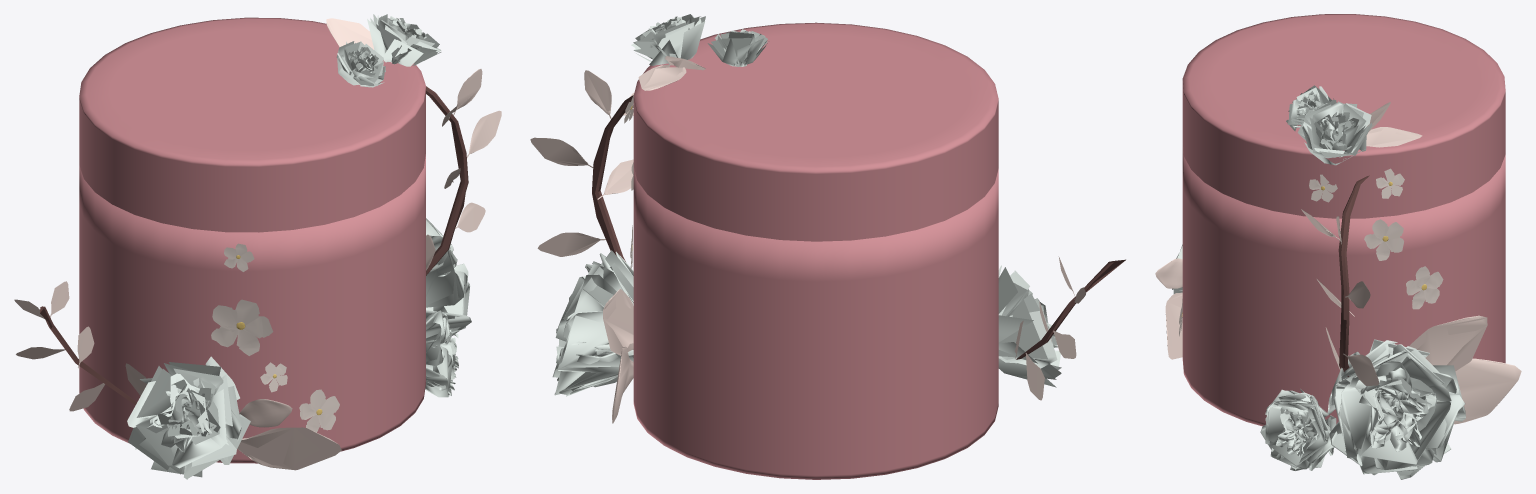
File: 1-tier-blush-roses-none.glb
The picture shows the model from 3 angles, left to right: view 1: azimuth 30°, elevation 25°; view 2: azimuth 150°, elevation 25°; view 3: azimuth 270°, elevation 25°; orthographic projection. The views are drawn at different scales.
Parts seen in each view (by area): view 1: Cylinder.019, grid.039, Plane.083, Plane.074, Plane.075, grid.038, grid.041, grid.033, Sphere.050, grid.035, Sphere.054, Plane.073 (+3 smaller); view 2: Cylinder.019, grid.038, Plane.083, grid.039, grid.041, Plane.075, Plane.079, grid.035, Plane.086, Plane.080; view 3: Cylinder.019, grid.038, grid.033, grid.041, Plane.083, Plane.080, Plane.079, Sphere.057, Sphere.059, Plane.074, grid.035, Plane.086 (+3 smaller).
Boxes of the visible parts, bbox=[...] form: Cylinder.019: bbox=[79, 17, 425, 463]; grid.039: bbox=[127, 356, 250, 479]; Plane.083: bbox=[426, 69, 501, 275]; Plane.074: bbox=[237, 427, 341, 470]; Plane.075: bbox=[14, 281, 147, 411]; grid.038: bbox=[426, 218, 471, 337]; grid.041: bbox=[367, 14, 441, 66]; grid.033: bbox=[425, 310, 458, 397]; Sphere.050: bbox=[211, 299, 273, 355]; grid.035: bbox=[336, 41, 385, 87]; Sphere.054: bbox=[299, 389, 339, 432]; Plane.073: bbox=[239, 399, 292, 427]; Cylinder.019: bbox=[633, 22, 998, 479]; grid.038: bbox=[552, 250, 633, 396]; Plane.083: bbox=[530, 70, 634, 261]; grid.039: bbox=[998, 265, 1061, 387]; grid.041: bbox=[631, 14, 705, 65]; Plane.075: bbox=[1014, 256, 1125, 400]; Plane.079: bbox=[603, 289, 633, 355]; grid.035: bbox=[707, 29, 768, 66]; Plane.086: bbox=[638, 65, 686, 90]; Plane.080: bbox=[612, 346, 633, 423]; Cylinder.019: bbox=[1182, 14, 1505, 426]; grid.038: bbox=[1327, 339, 1465, 479]; grid.033: bbox=[1260, 389, 1336, 470]; grid.041: bbox=[1297, 99, 1372, 165]; Plane.083: bbox=[1301, 175, 1379, 385]; Plane.080: bbox=[1454, 358, 1521, 424]; Plane.079: bbox=[1409, 315, 1487, 371]; Sphere.057: bbox=[1364, 219, 1403, 260]; Sphere.059: bbox=[1406, 266, 1443, 309]; Plane.074: bbox=[1165, 292, 1182, 359]; grid.035: bbox=[1286, 85, 1333, 131]; Plane.086: bbox=[1366, 127, 1422, 147].
Size of the model in its own units: 4.49 by 3.04 by 2.9.
